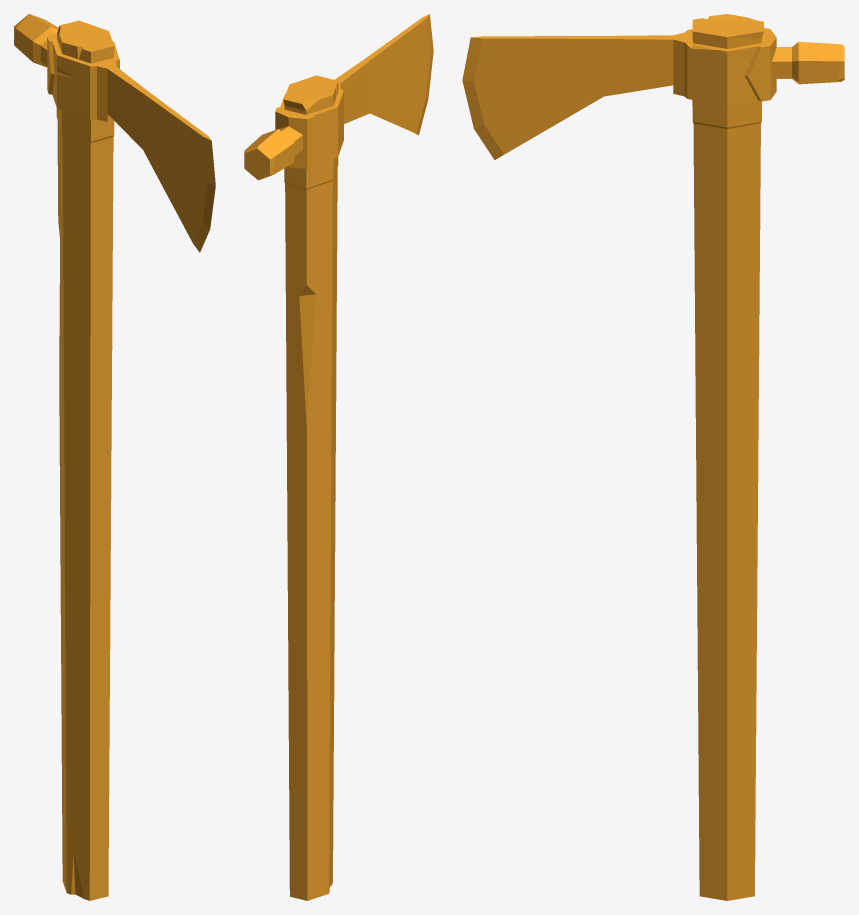
The model's file is SM_Axe_Throwing.fbx.
The picture shows the model from 3 angles, left to right: view 1: azimuth 30°, elevation 25°; view 2: azimuth 150°, elevation 25°; view 3: azimuth 270°, elevation 25°; orthographic projection. The views are drawn at different scales.
Visible parts, largest first — view 1: axe-throwing; view 2: axe-throwing; view 3: axe-throwing.
Part boxes in pixels (x1,y1,x2,y2): axe-throwing: [14, 14, 215, 900]; axe-throwing: [244, 14, 433, 900]; axe-throwing: [462, 14, 844, 900].
Size of the model in its own units: 0.0451 by 0.6466 by 0.2584.
